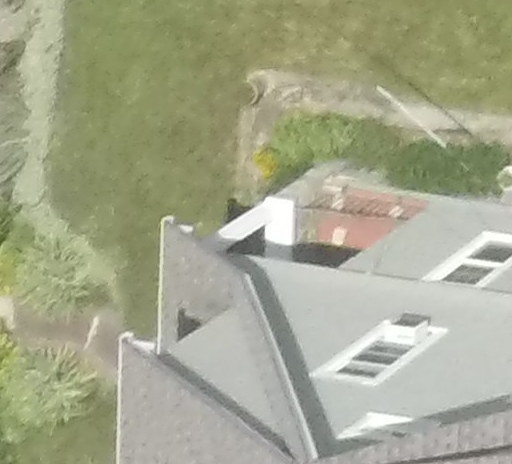container: (229, 80, 266, 110)
